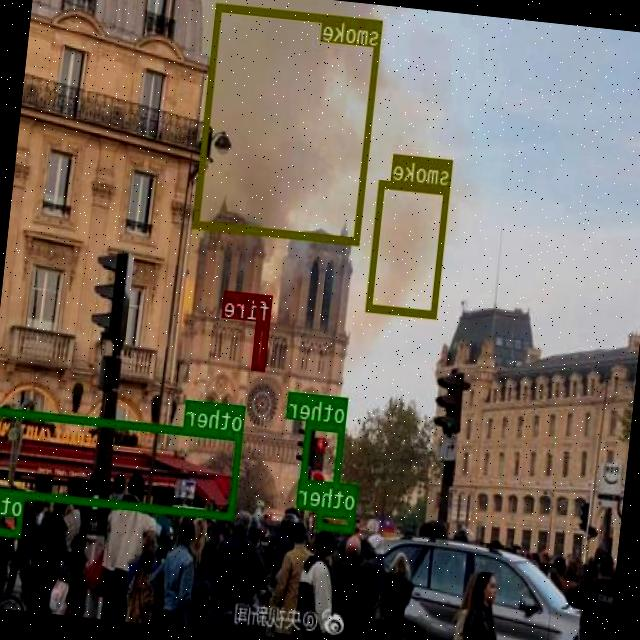fire: (252, 320, 270, 370)
smoke: (194, 2, 383, 244), (367, 178, 450, 316)
